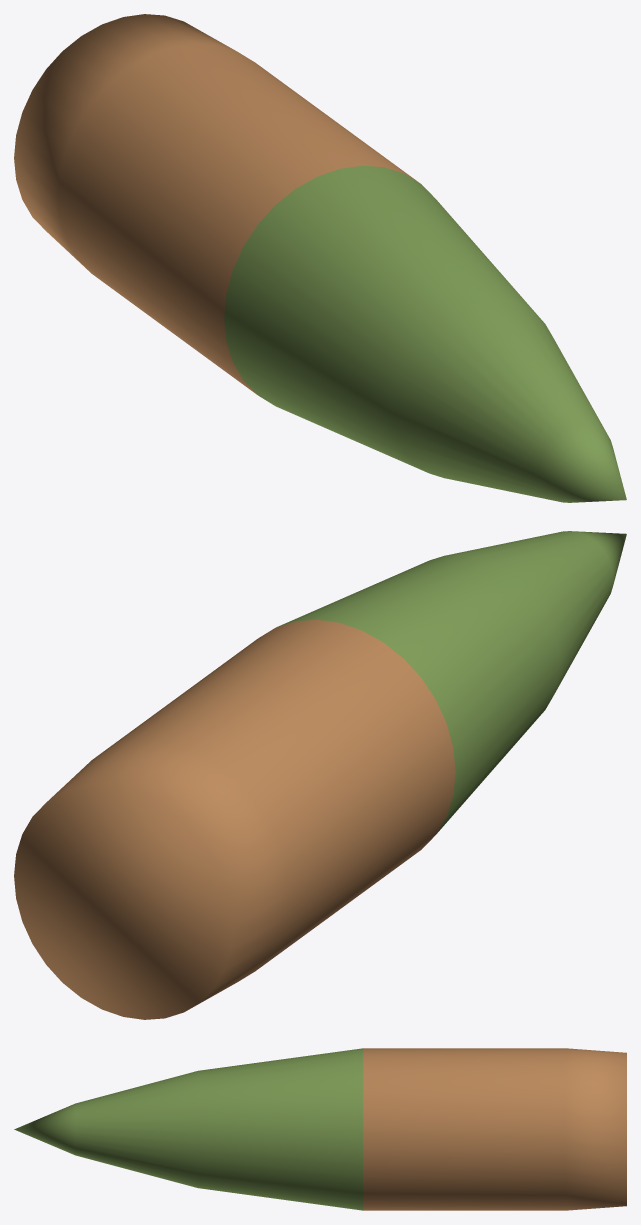
The model's file is cannon_30_projectile_display.glb.
The picture shows the model from 3 angles, top to bottom: view 1: azimuth 30°, elevation 25°; view 2: azimuth 150°, elevation 25°; view 3: azimuth 270°, elevation 25°; orthographic projection. The views are drawn at different scales.
Parts seen in each view (by area): view 1: AMMO_MESH.028; view 2: AMMO_MESH.028; view 3: AMMO_MESH.028.
Boxes of the visible parts, left/top/right/bottom form: AMMO_MESH.028: left=14, top=14, right=626, bottom=502; AMMO_MESH.028: left=14, top=531, right=626, bottom=1019; AMMO_MESH.028: left=14, top=1048, right=626, bottom=1210.
Bounding box in the file's own units: 0.0302 × 0.0302 × 0.114.
